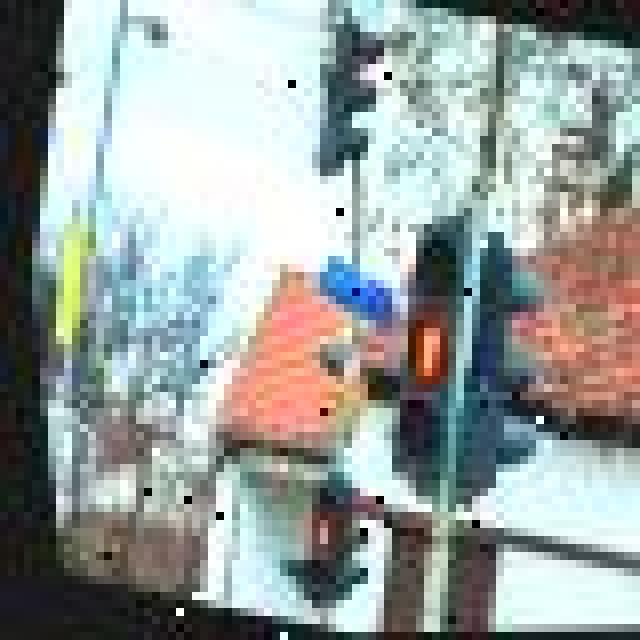redlight: (394, 304, 462, 482)
